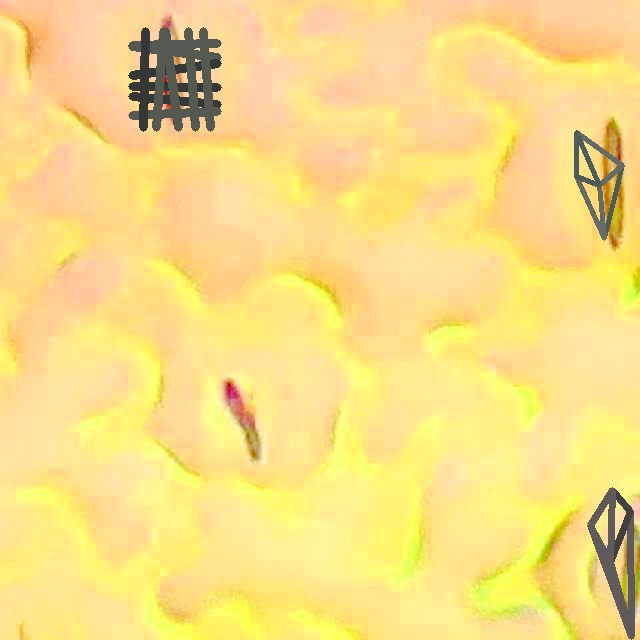open: (128, 27, 221, 131), (588, 487, 632, 638), (575, 131, 623, 239)
